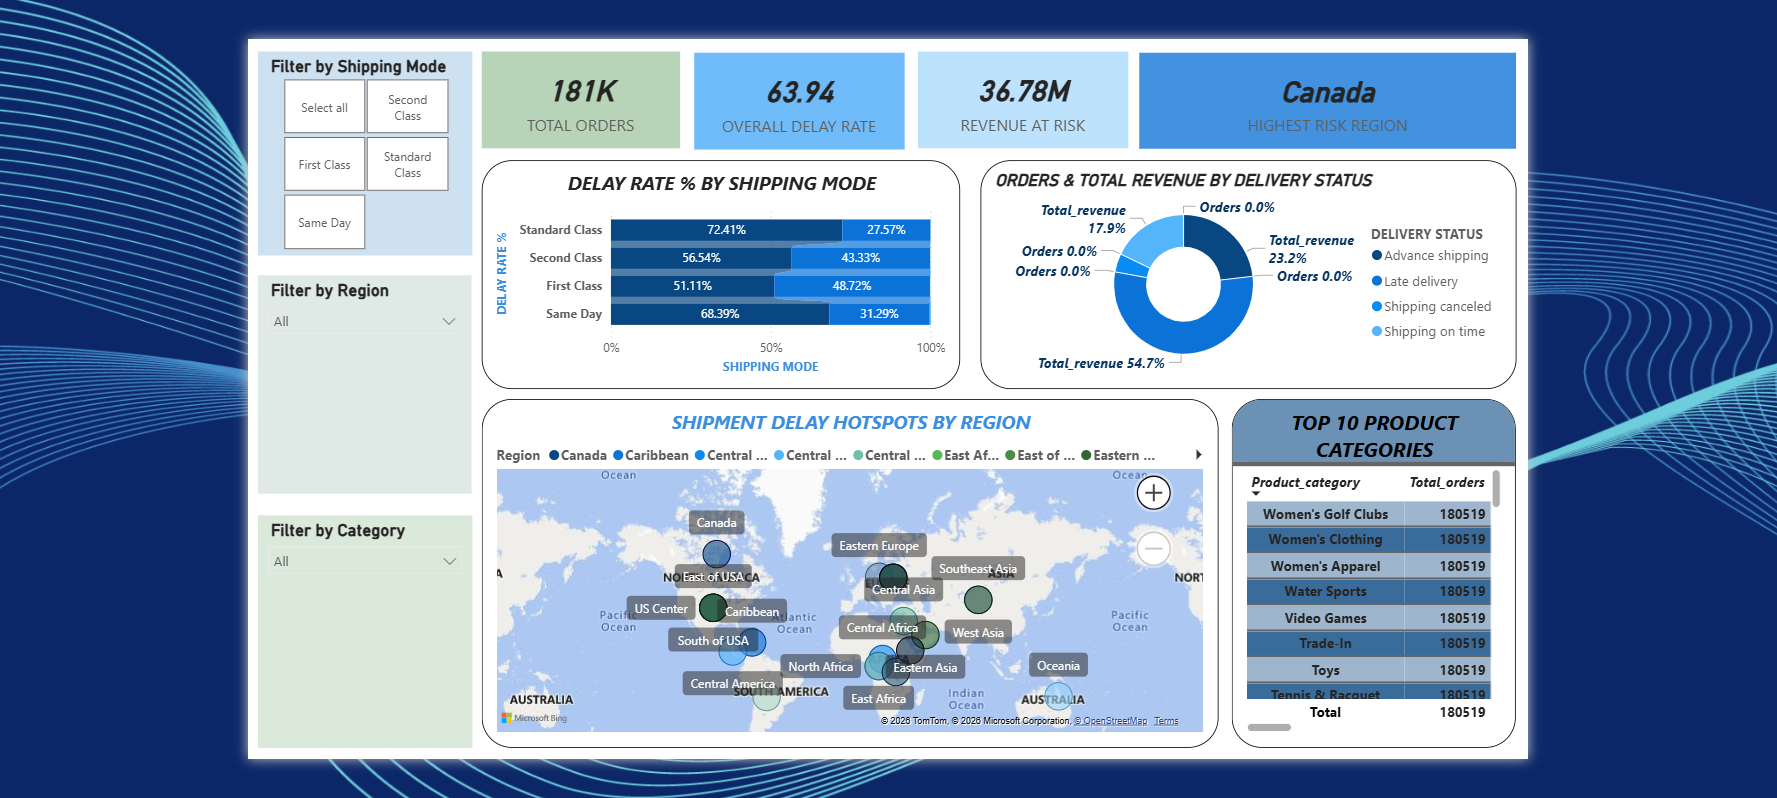

What the dashboard file says about the page in this screenshot:
{"tool":"powerbi","page":{"name":"Page 1","canvas":[1280,720],"ordinal":0},"visuals":[{"type":"hundredPercentStackedBarChart","title":"DELAY RATE % BY SHIPPING MODE","fields":{"Category":["Results_Q1.Column1"],"Y":["Sum(Results_Q1.Column2)","Sum(Results_Q1.Column3)","Sum(Results_Q1.Column4)"]},"box":[234.3,121.4,478.6,228.6],"z":0},{"type":"map","title":"SHIPMENT DELAY HOTSPOTS BY REGION","fields":{"Series":["Results_Q2.Column1"],"Size":["CountNonNull(Results_Q2.Column2)"],"Category":["Results_Q2.Column1"]},"box":[234.3,360,737.1,348.6],"z":1000},{"type":"donutChart","title":"ORDERS & TOTAL REVENUE BY DELIVERY STATUS","fields":{"Category":["Results_Q3.Column1"],"Y":["CountNonNull(Results_Q3.Column2)","Sum(Results_Q3.Column3)"]},"box":[732.9,121.4,535.7,228.6],"z":2000},{"type":"pivotTable","title":"TOP 10 PRODUCT CATEGORIES","fields":{"Rows":["Results_Q4.Column1"],"Values":["Sum(Results_Q1.Column2)","Sum(Results_Q1.Column3)","Sum(Results_Q1.Column4)","Sum(Results_Q3.Column3)","Avg(Results_Q3.Column4)"]},"box":[984.3,360,284.3,348.6],"z":3000},{"type":"card","fields":{"Values":["Sum(Results_Q1.Column2)"]},"box":[234.3,12.9,198.6,97.1],"z":4000},{"type":"card","fields":{"Values":["Avg(Results_Q1.Column4)"]},"box":[445.7,14.3,210,97.1],"z":5000},{"type":"card","fields":{"Values":["Sum(Results_Q3.Column3)"]},"box":[670,12.9,210,97.1],"z":6000},{"type":"card","fields":{"Values":["Min(Results_Q2.Column1)"]},"box":[891.4,14.3,377.1,95.7],"z":7000},{"type":"slicer","fields":{"Values":["Results_Q1.Column1"]},"box":[10,12.9,214.3,204.3],"z":8000},{"type":"slicer","fields":{"Values":["Results_Q4.Column1"]},"box":[10,475.7,214.3,232.9],"z":9000},{"type":"slicer","fields":{"Values":["Results_Q2.Column1"]},"box":[10,236.2,213.8,218.8],"z":10000}]}

Visuals, with their boxes on the page's 1280x720 design canvas (x1, y1, x2, y2). These are canvas units, not pixel positions in the 1777x798 screenshot, which may show the page scaled, cropped or inside an application window:
"DELAY RATE % BY SHIPPING MODE" hundredPercentStackedBarChart: 234,121,713,350
"SHIPMENT DELAY HOTSPOTS BY REGION" map: 234,360,971,709
"ORDERS & TOTAL REVENUE BY DELIVERY STATUS" donutChart: 733,121,1269,350
"TOP 10 PRODUCT CATEGORIES" pivotTable: 984,360,1269,709
card - Sum(Results_Q1.Column2): 234,13,433,110
card - Avg(Results_Q1.Column4): 446,14,656,111
card - Sum(Results_Q3.Column3): 670,13,880,110
card - Min(Results_Q2.Column1): 891,14,1268,110
slicer - Results_Q1.Column1: 10,13,224,217
slicer - Results_Q4.Column1: 10,476,224,709
slicer - Results_Q2.Column1: 10,236,224,455
